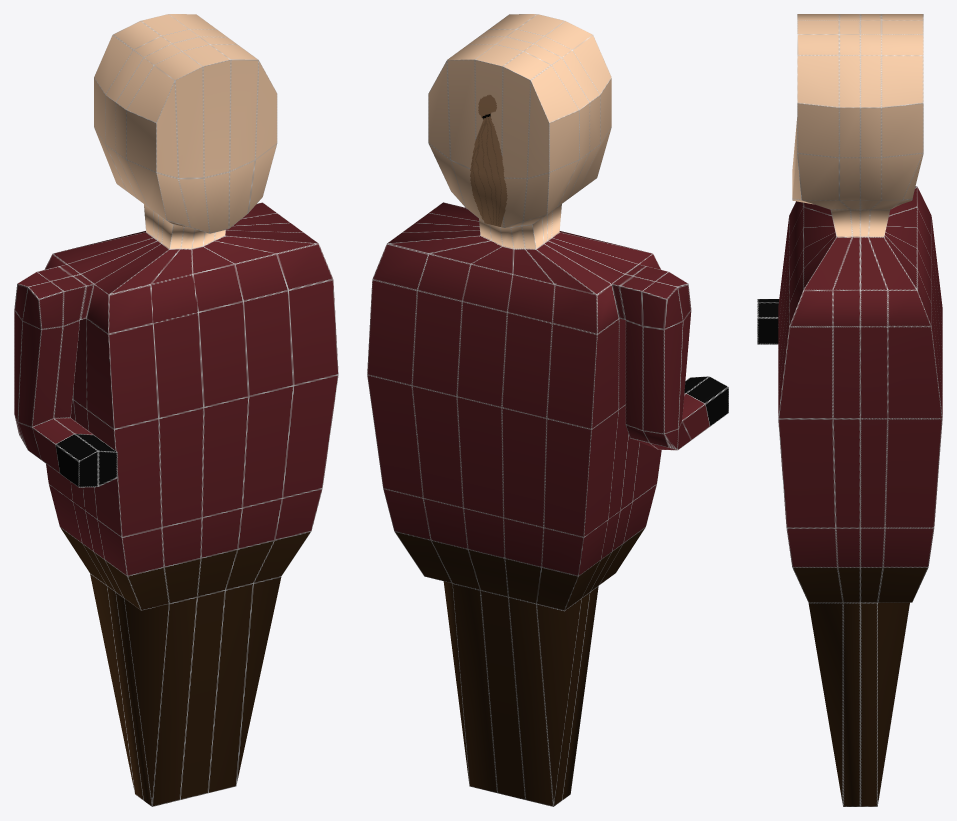
File: dm_playerModel.fbx
3 renders of one model, left to right at view 1: azimuth 30°, elevation 25°; view 2: azimuth 150°, elevation 25°; view 3: azimuth 270°, elevation 25°, orthographic.
Visible parts, largest first — view 1: PlayerModel; view 2: PlayerModel; view 3: PlayerModel.
Boxes of the visible parts, x1,y1,x2,y2 form: PlayerModel: (14, 14, 338, 806); PlayerModel: (367, 14, 728, 806); PlayerModel: (757, 14, 942, 806).
Bounding box in the file's own units: 69.13 × 180 × 39.78.
